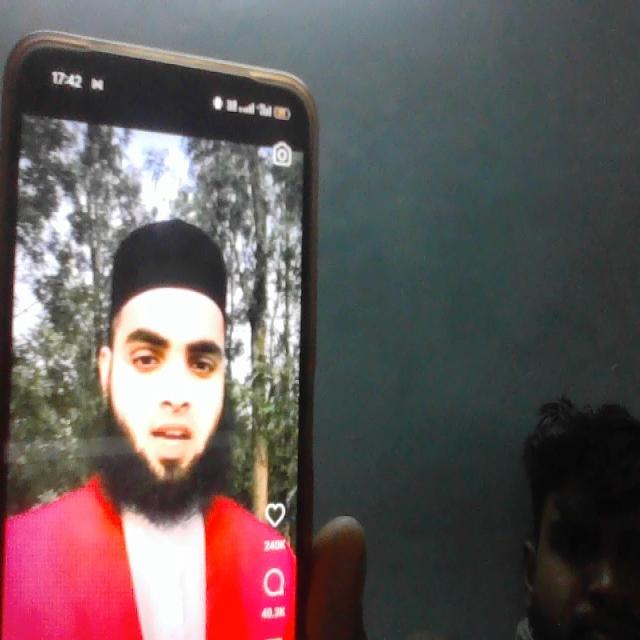fake: (92, 213, 245, 503)
